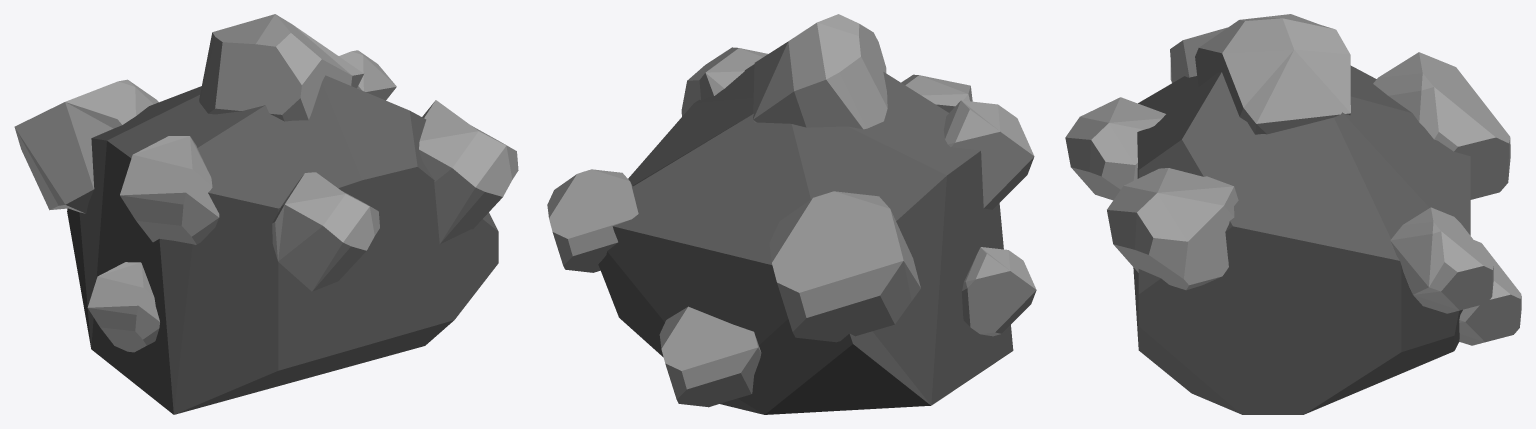
The model's file is ironOre.fbx.
The picture shows the model from 3 angles, left to right: view 1: azimuth 30°, elevation 25°; view 2: azimuth 150°, elevation 25°; view 3: azimuth 270°, elevation 25°; orthographic projection.
Visible parts, largest first — view 1: Cube, Cube.001; view 2: Cube, Cube.001; view 3: Cube, Cube.001.
Part boxes in pixels (x1,y1,x2,y2): Cube: (67, 75, 498, 414); Cube.001: (14, 14, 518, 352); Cube: (598, 64, 1013, 414); Cube.001: (547, 14, 1036, 407); Cube: (1133, 65, 1470, 414); Cube.001: (1065, 14, 1521, 345).
Size of the model in its own units: 295 by 232 by 292.
Materials: 1 (1 with a texture image).
